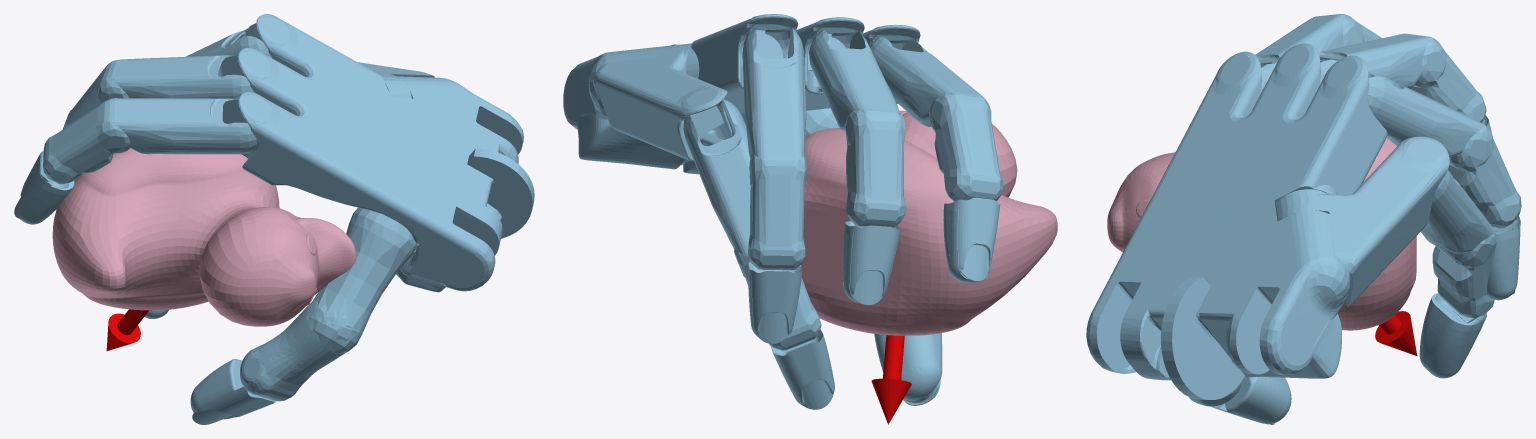
The picture shows the model from 3 angles, left to right: view 1: azimuth 30°, elevation 25°; view 2: azimuth 150°, elevation 25°; view 3: azimuth 270°, elevation 25°; orthographic projection. The views are drawn at different scales.
Visible parts, largest first — view 1: world, rubber_duck.stl; view 2: world, rubber_duck.stl; view 3: world, rubber_duck.stl.
Boxes of the visible parts, x1,y1,x2,y2 form: world: (14,14,534,424); rubber_duck.stl: (52,148,356,326); world: (563,14,1003,424); rubber_duck.stl: (801,110,1057,335); world: (1086,14,1521,424); rubber_duck.stl: (1107,138,1416,330).
Bounding box in the file's own units: 0.1833 × 0.1419 × 0.1349.
